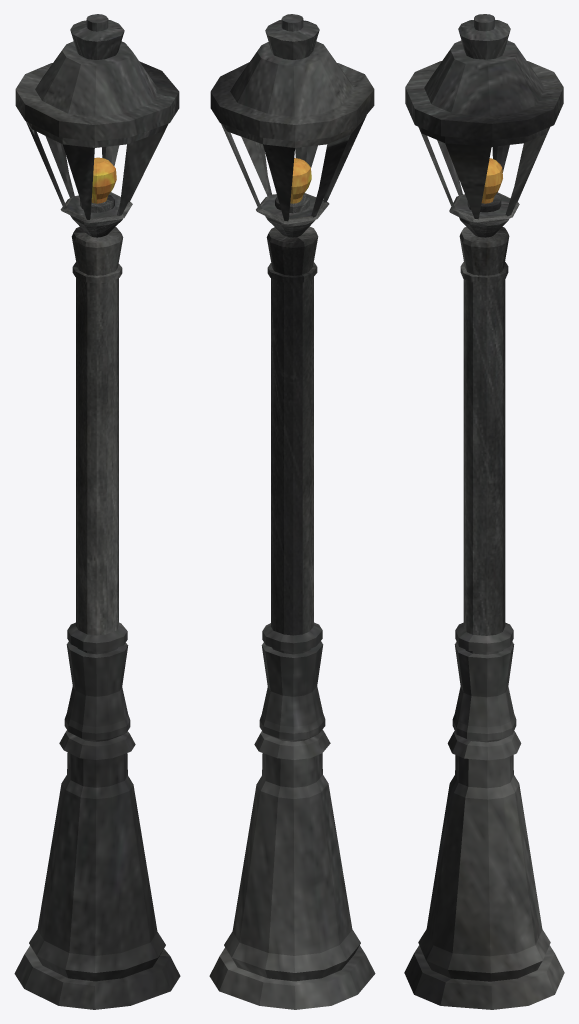
File: Streetlight.fbx
3 renders of one model, left to right at view 1: azimuth 30°, elevation 25°; view 2: azimuth 150°, elevation 25°; view 3: azimuth 270°, elevation 25°, orthographic.
Visible parts, largest first — view 1: Streetlight; view 2: Streetlight; view 3: Streetlight.
Part boxes in pixels (x1,y1,x2,y2): Streetlight: (14,14,180,1009); Streetlight: (209,14,375,1009); Streetlight: (404,14,564,1009).
Bounding box in the file's own units: 67.69 × 446 × 67.69.
1 material, 1 textured.
